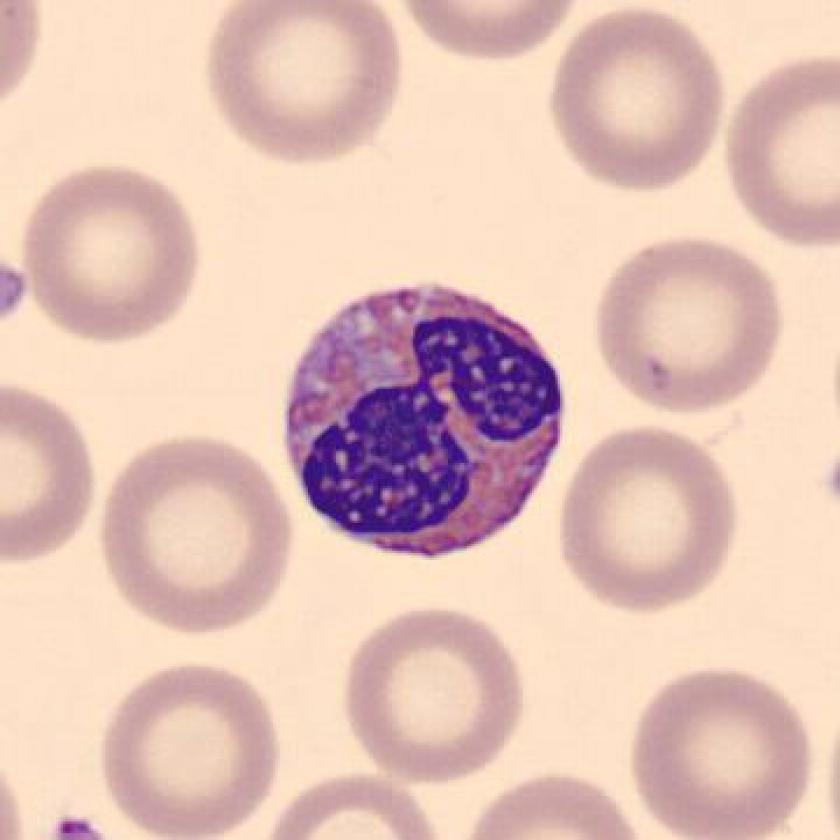eosinophil: (272, 270, 575, 578)
